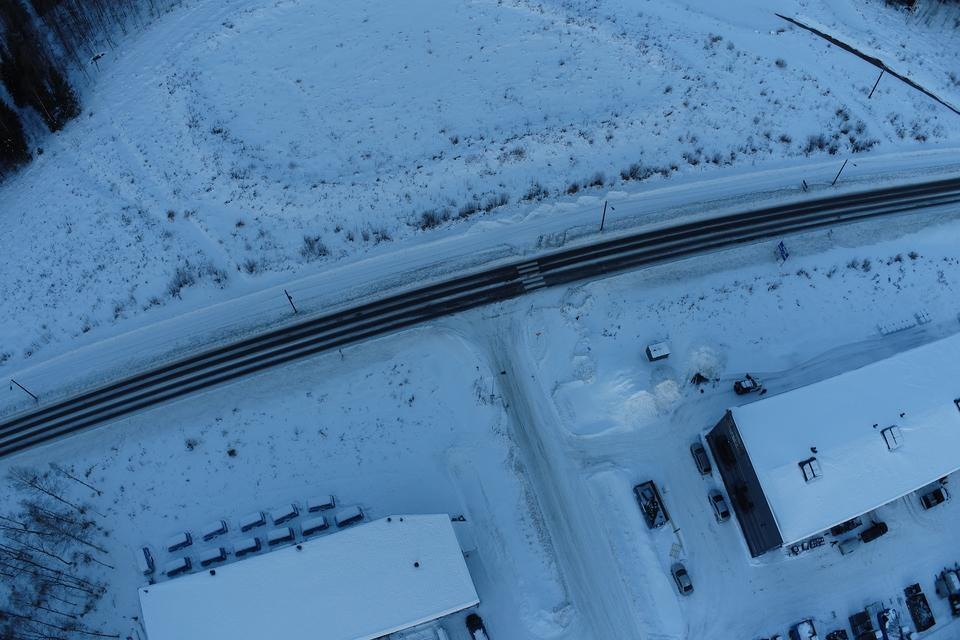intersection: (405, 200, 565, 397)
